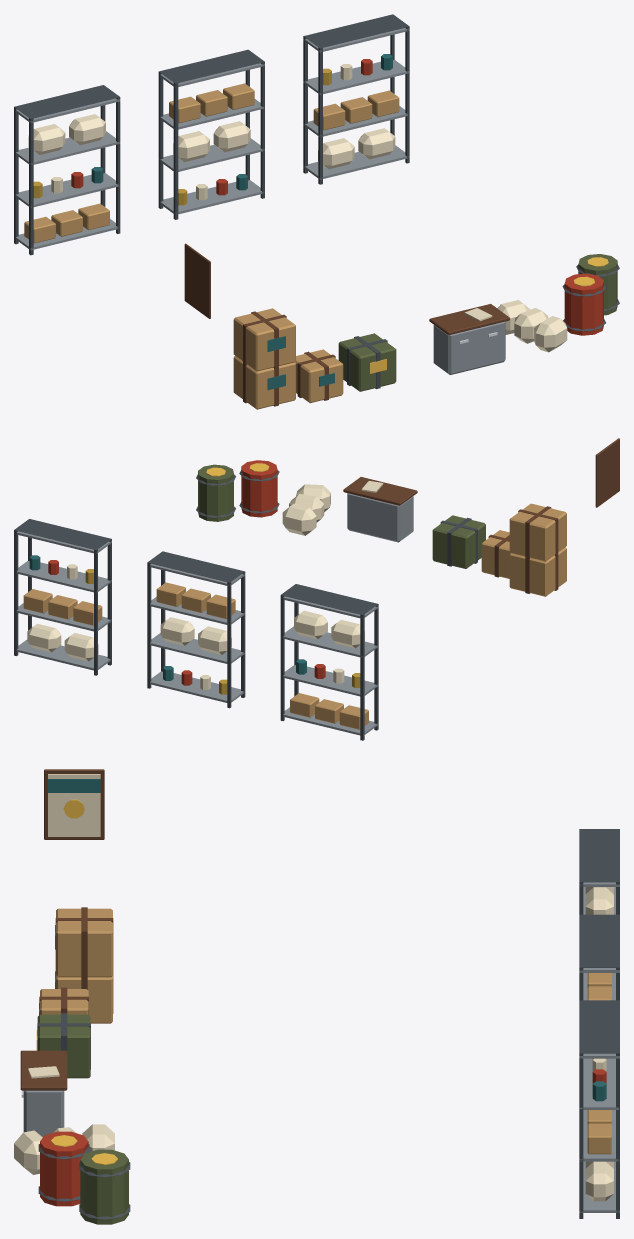
Rendered from Room_Storage_L2.fbx.
3 renders of one model, top to bottom at view 1: azimuth 30°, elevation 25°; view 2: azimuth 150°, elevation 25°; view 3: azimuth 270°, elevation 25°, orthographic. The views are drawn at different scales.
Visible parts, largest first — view 1: Decor, Desk1, Shelf2, Crate2, Shelf3, Shelf1, Crate4, Barrel1, Crate1, Crate3, Barrel2; view 2: Decor, Desk1, Crate2, Shelf2, Shelf3, Crate4, Shelf1, Crate1, Barrel1, Barrel2, Crate3; view 3: Decor, Crate2, Barrel2, Shelf3, Barrel1, Crate4, Shelf2, Shelf1, Desk1, Crate1, Crate3.
Boxes of the visible parts, x1=… form: Decor: x1=14, y1=26, x2=619, y2=406; Desk1: x1=433, y1=321, x2=505, y2=374; Shelf2: x1=159, y1=49, x2=264, y2=214; Crate2: x1=233, y1=308, x2=295, y2=371; Shelf3: x1=303, y1=14, x2=409, y2=179; Shelf1: x1=14, y1=85, x2=119, y2=250; Crate4: x1=338, y1=333, x2=396, y2=391; Barrel1: x1=564, y1=273, x2=603, y2=335; Crate1: x1=233, y1=355, x2=295, y2=409; Crate3: x1=294, y1=349, x2=343, y2=403; Barrel2: x1=578, y1=254, x2=617, y2=315; Decor: x1=14, y1=438, x2=619, y2=740; Desk1: x1=347, y1=493, x2=413, y2=542; Crate2: x1=509, y1=503, x2=566, y2=561; Shelf2: x1=147, y1=551, x2=244, y2=702; Shelf3: x1=14, y1=519, x2=111, y2=670; Crate4: x1=432, y1=515, x2=485, y2=568; Shelf1: x1=281, y1=584, x2=377, y2=735; Crate1: x1=509, y1=547, x2=566, y2=596; Barrel1: x1=241, y1=460, x2=277, y2=517; Barrel2: x1=198, y1=464, x2=233, y2=521; Crate3: x1=481, y1=530, x2=510, y2=578; Decor: x1=14, y1=769, x2=619, y2=1219; Crate2: x1=56, y1=908, x2=112, y2=977; Barrel2: x1=80, y1=1149, x2=128, y2=1224; Shelf3: x1=579, y1=1000, x2=619, y2=1212; Barrel1: x1=40, y1=1131, x2=88, y2=1206; Crate4: x1=37, y1=1014, x2=90, y2=1078; Shelf2: x1=579, y1=914, x2=619, y2=967; Shelf1: x1=579, y1=829, x2=619, y2=882; Desk1: x1=23, y1=1090, x2=64, y2=1136; Crate1: x1=56, y1=975, x2=112, y2=1023; Crate3: x1=40, y1=989, x2=88, y2=1014.
Bounding box in the file's own units: 29.92 × 10.92 × 29.87.
